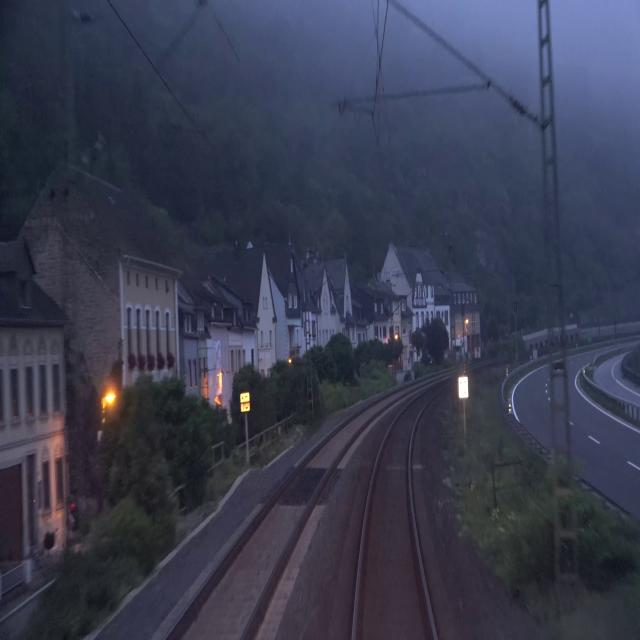rail-track: (169, 394, 396, 639), (356, 387, 439, 639)
